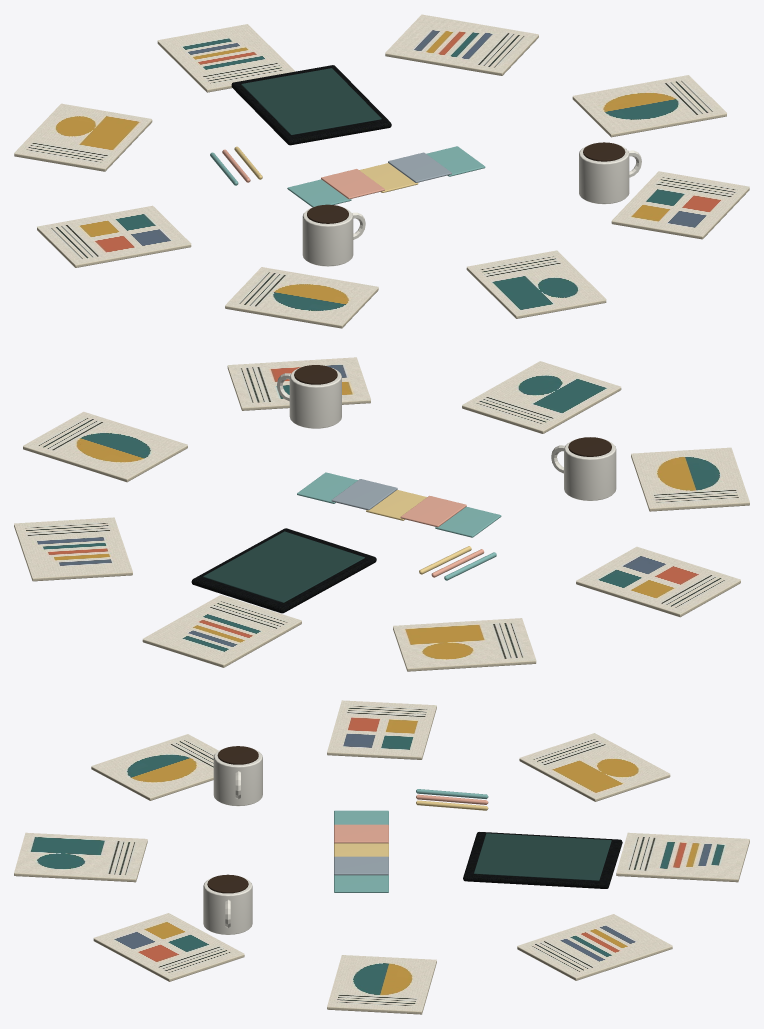
File: round-ideation-dressed-v1.glb
The picture shows the model from 3 angles, top to bottom: view 1: azimuth 30°, elevation 25°; view 2: azimuth 150°, elevation 25°; view 3: azimuth 270°, elevation 25°; orthographic projection. The views are drawn at different scales.
Parts seen in each view (by area): view 1: Printed stock edge; view 2: Printed stock edge; view 3: Printed stock edge.
Part boxes in pixels (box(x1,y1,x2,y2)): Printed stock edge: box(14, 14, 749, 328); Printed stock edge: box(14, 357, 749, 671); Printed stock edge: box(14, 700, 749, 1014).
Bounding box in the file's own units: 2.15 × 0.142 × 2.15.
Materials: 10 (3 with a texture image).
